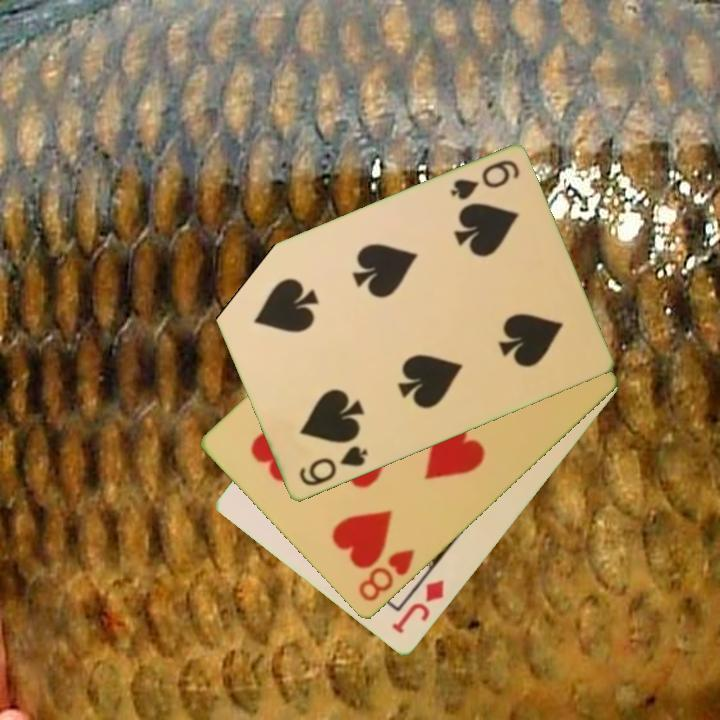6s: (446, 156, 523, 204), (295, 443, 371, 490)
8h: (354, 545, 418, 606)
Jd: (388, 576, 447, 638)
